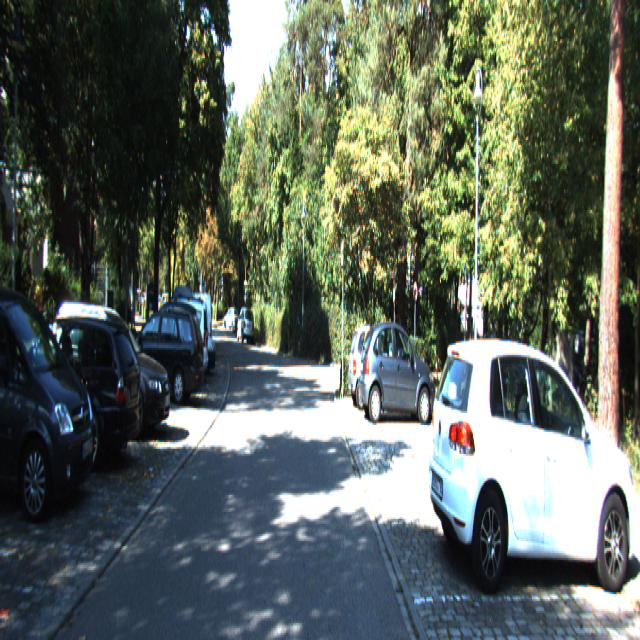Car: (422, 329, 640, 598), (0, 273, 103, 519), (0, 312, 145, 480), (45, 298, 175, 438), (117, 304, 205, 406), (358, 312, 436, 421), (346, 318, 414, 412), (237, 306, 254, 344)
